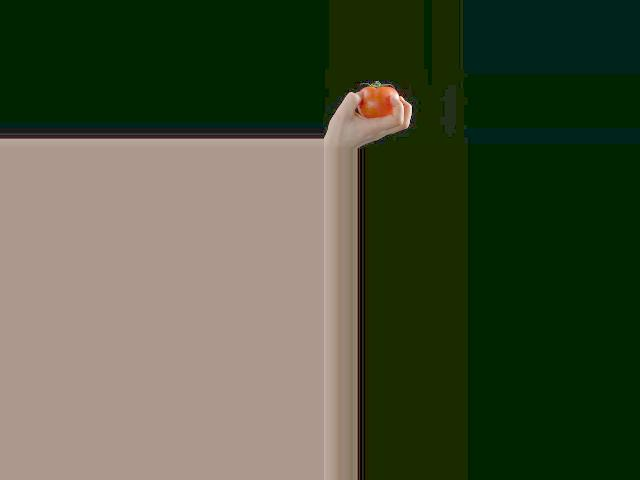tomato: (357, 82, 398, 117)
